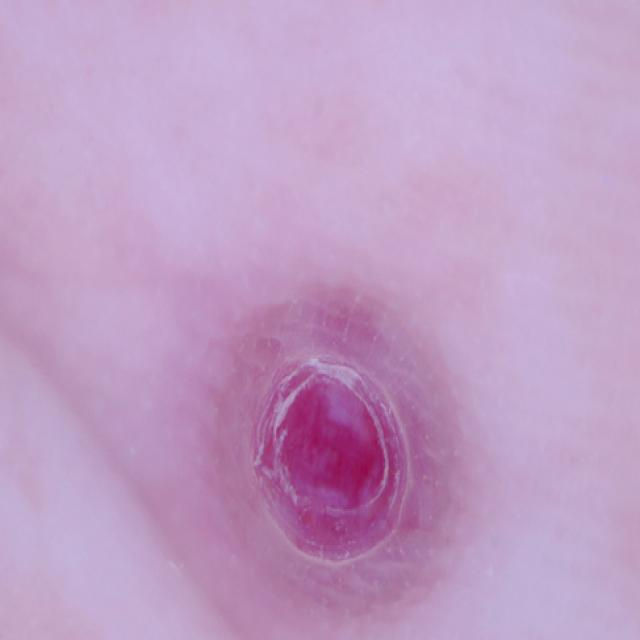Vascular Lesions: (217, 304, 490, 640)
